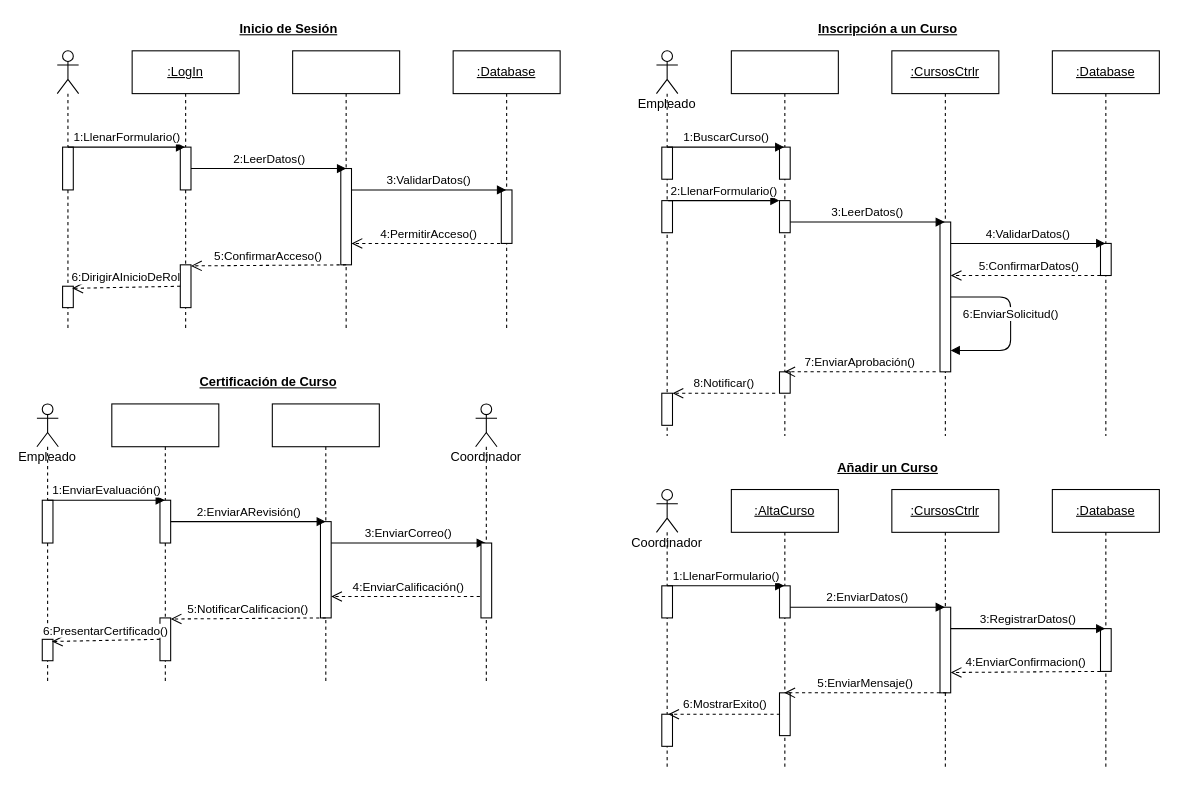
This 1178x786 diagram has some shape labels left out. Each missing label, with the box of its shape:
: CursosCtrlr: (271, 403, 379, 682)
:CatálogoCurso: (730, 50, 838, 436)
:LeccionCurso: (111, 403, 219, 682)
:UsuariosCtrlr: (292, 50, 400, 329)
Usuario: (56, 50, 79, 329)
